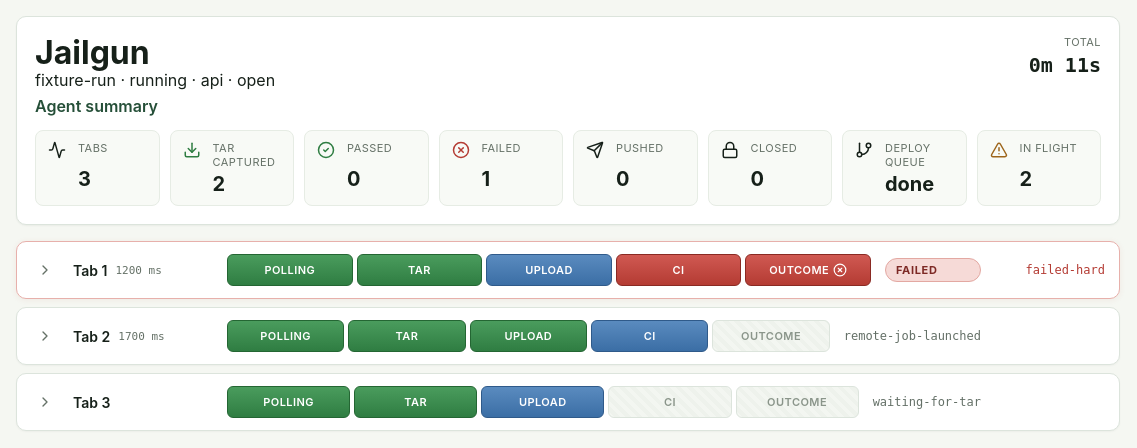
Scenario: renders the failure trace tooltip on hover when outcome failed
Check: the element named "tab 1 row" is shown, box left=16, top=241, right=1120, bottom=299
Hover over the button named "show failure trace" at (840, 270), box left=833, top=263, right=847, bottom=277
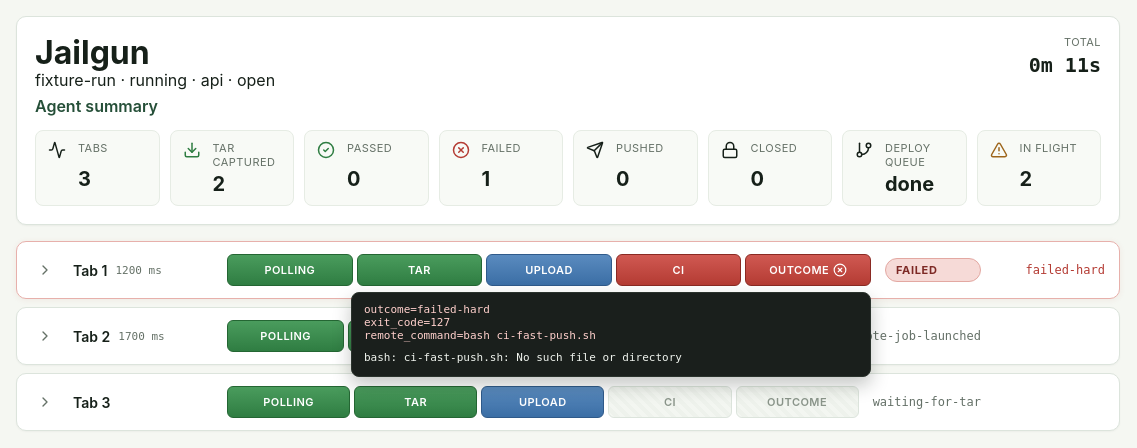
Check: the tooltip named "failure trace" shows "outcome=failed-hard", box left=364, top=303, right=596, bottom=342
Check: the tooltip named "failure trace" shows "No such file or directory", box left=364, top=351, right=682, bottom=364
